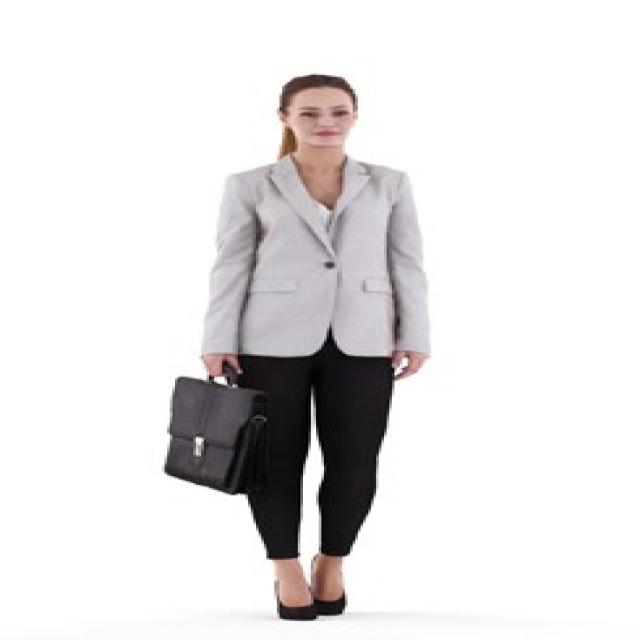standing: (193, 69, 433, 623)
